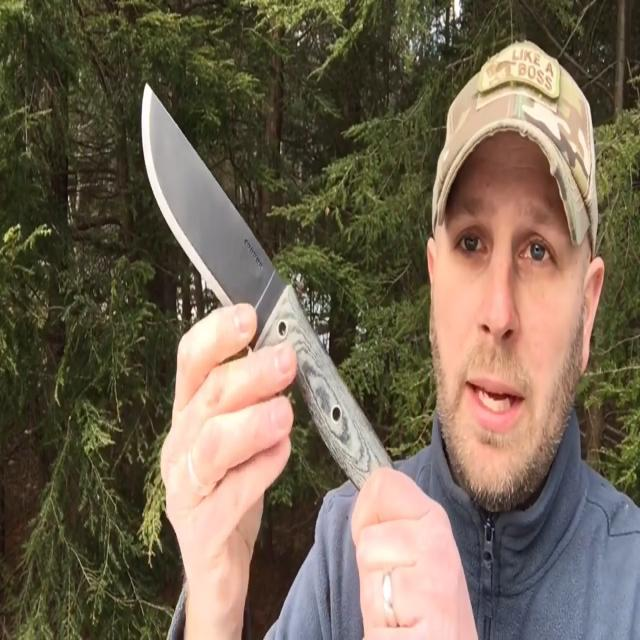knife: (142, 77, 398, 484)
